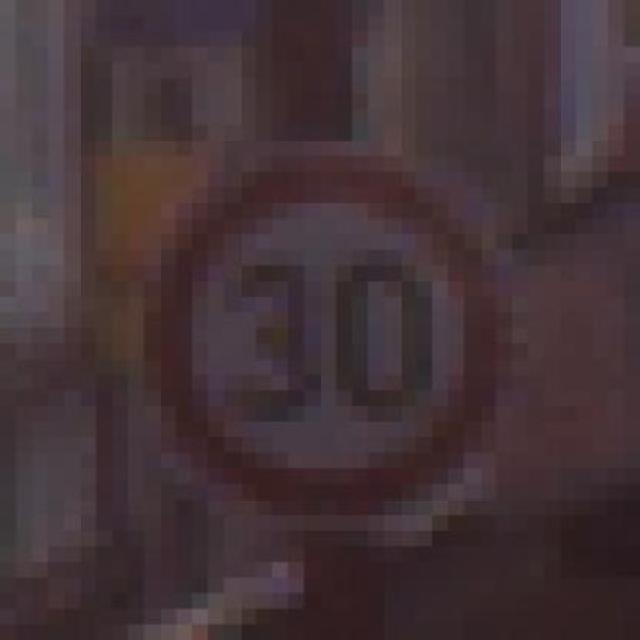Speed Limit 30 KMPh: (111, 109, 544, 531)
